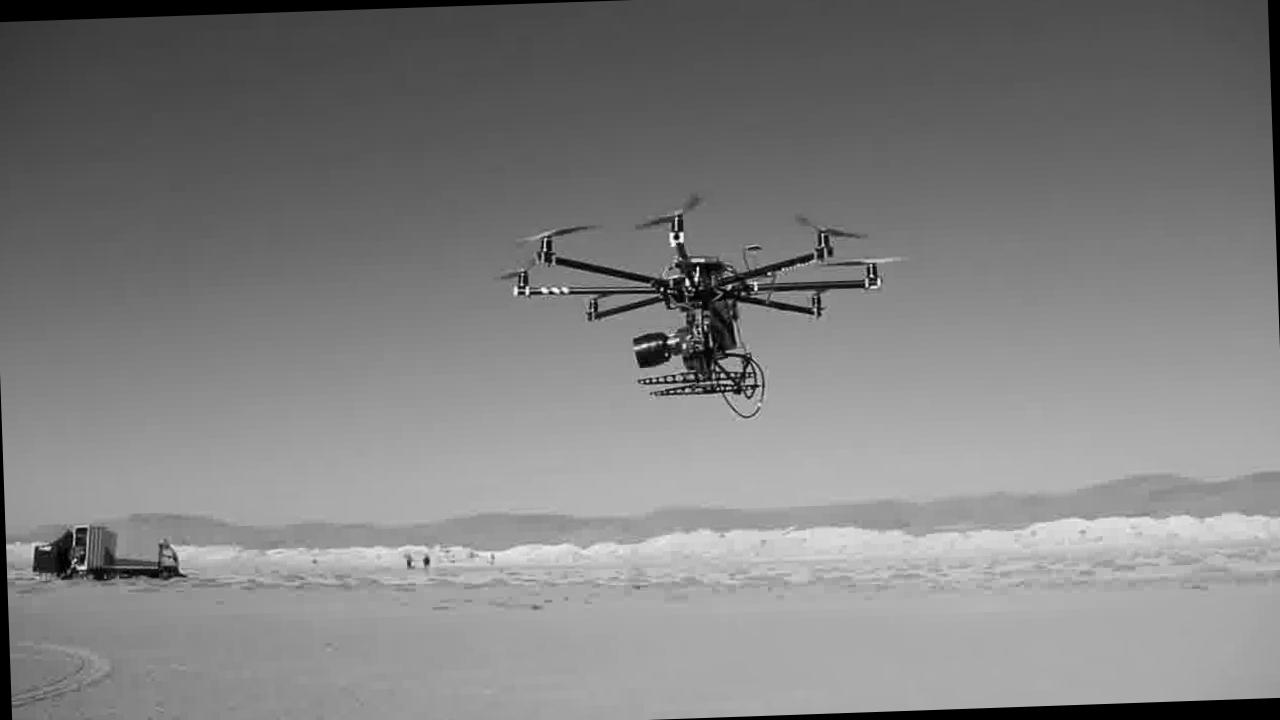drone: (497, 192, 892, 414)
